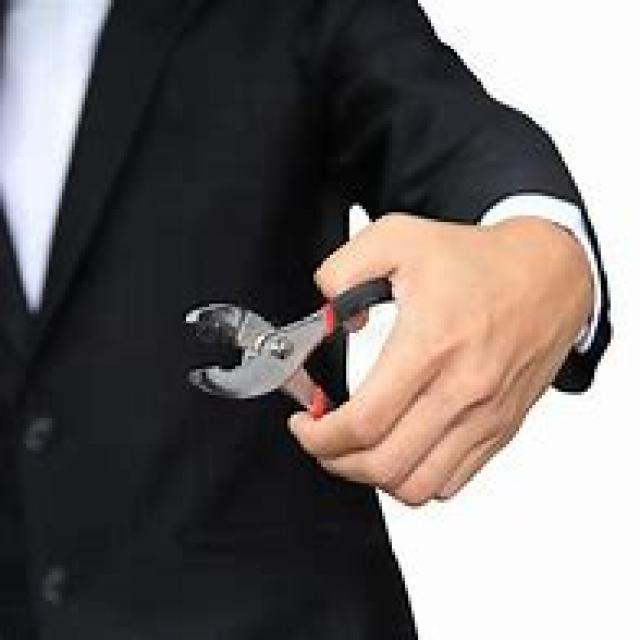pliers: (176, 272, 399, 418)
